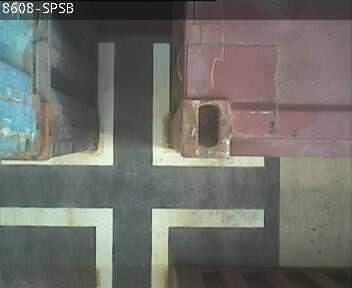groundmarker_1: (2, 44, 265, 165), (1, 207, 263, 288)
